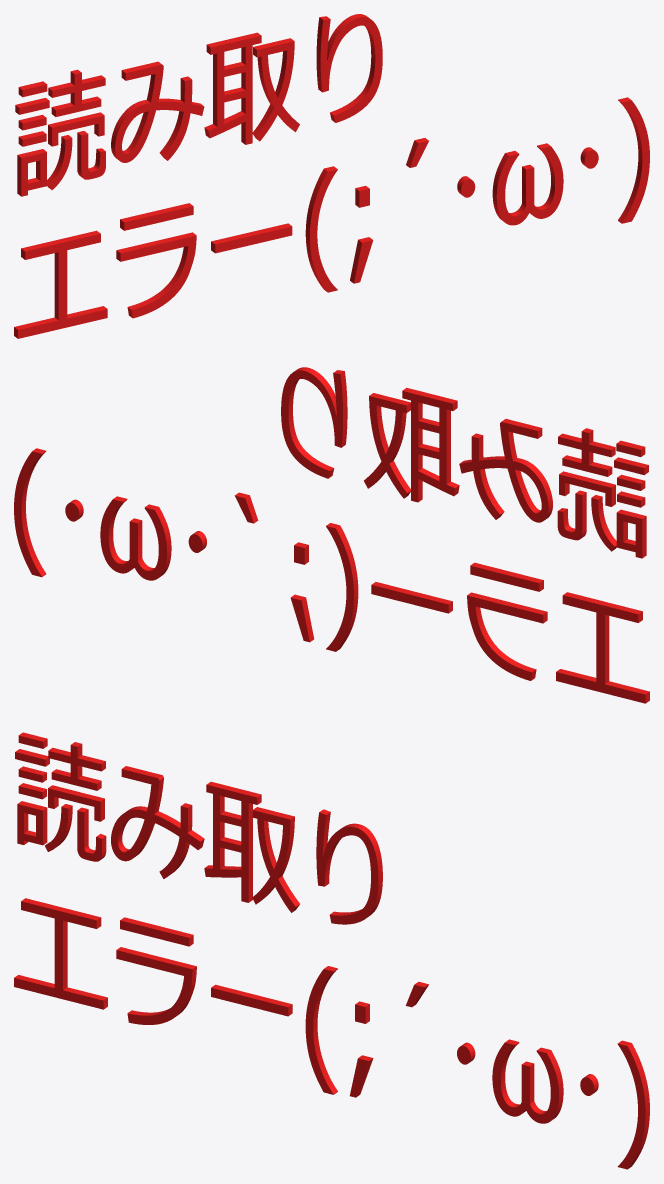
Rendered from error.obj.
3 renders of one model, top to bottom at view 1: azimuth 30°, elevation 25°; view 2: azimuth 150°, elevation 25°; view 3: azimuth 330°, elevation 25°, orthographic.
Visible parts, largest first — view 1: TextMesh#0, TextMesh#2, TextMesh#1, TextMesh#5, TextMesh#4, TextMesh#3, TextMesh#11, TextMesh#7, TextMesh#13, TextMesh#6, TextMesh#8; view 2: TextMesh#0, TextMesh#2, TextMesh#1, TextMesh#5, TextMesh#4, TextMesh#3, TextMesh#11, TextMesh#13, TextMesh#7, TextMesh#6, TextMesh#8; view 3: TextMesh#0, TextMesh#2, TextMesh#1, TextMesh#4, TextMesh#5, TextMesh#11, TextMesh#3, TextMesh#7, TextMesh#13, TextMesh#6, TextMesh#8.
Boxes of the visible parts, bbox=[...] form: TextMesh#0: bbox=[15, 69, 105, 196]; TextMesh#2: bbox=[204, 32, 299, 144]; TextMesh#1: bbox=[111, 61, 204, 162]; TextMesh#5: bbox=[116, 203, 196, 318]; TextMesh#4: bbox=[14, 230, 107, 338]; TextMesh#3: bbox=[316, 14, 382, 122]; TextMesh#11: bbox=[492, 143, 563, 225]; TextMesh#7: bbox=[305, 166, 337, 292]; TextMesh#13: bbox=[618, 97, 649, 223]; TextMesh#6: bbox=[211, 223, 292, 253]; TextMesh#8: bbox=[350, 185, 373, 283]; TextMesh#0: bbox=[557, 428, 648, 558]; TextMesh#2: bbox=[364, 387, 459, 502]; TextMesh#1: bbox=[459, 419, 552, 522]; TextMesh#5: bbox=[467, 562, 547, 680]; TextMesh#4: bbox=[556, 592, 649, 703]; TextMesh#3: bbox=[281, 367, 347, 478]; TextMesh#11: bbox=[100, 496, 171, 580]; TextMesh#13: bbox=[14, 448, 46, 577]; TextMesh#7: bbox=[326, 523, 358, 651]; TextMesh#6: bbox=[371, 582, 452, 613]; TextMesh#8: bbox=[290, 542, 314, 642]; TextMesh#0: bbox=[15, 732, 106, 861]; TextMesh#2: bbox=[204, 781, 299, 912]; TextMesh#1: bbox=[111, 766, 204, 878]; TextMesh#4: bbox=[14, 898, 107, 1009]; TextMesh#5: bbox=[116, 917, 196, 1024]; TextMesh#11: bbox=[492, 1039, 563, 1123]; TextMesh#3: bbox=[316, 809, 382, 924]; TextMesh#7: bbox=[305, 966, 337, 1094]; TextMesh#13: bbox=[617, 1040, 649, 1169]; TextMesh#6: bbox=[211, 984, 292, 1016]; TextMesh#8: bbox=[349, 1001, 373, 1097].
Size of the model in its own units: 85.93 by 36.43 by 2.5.
